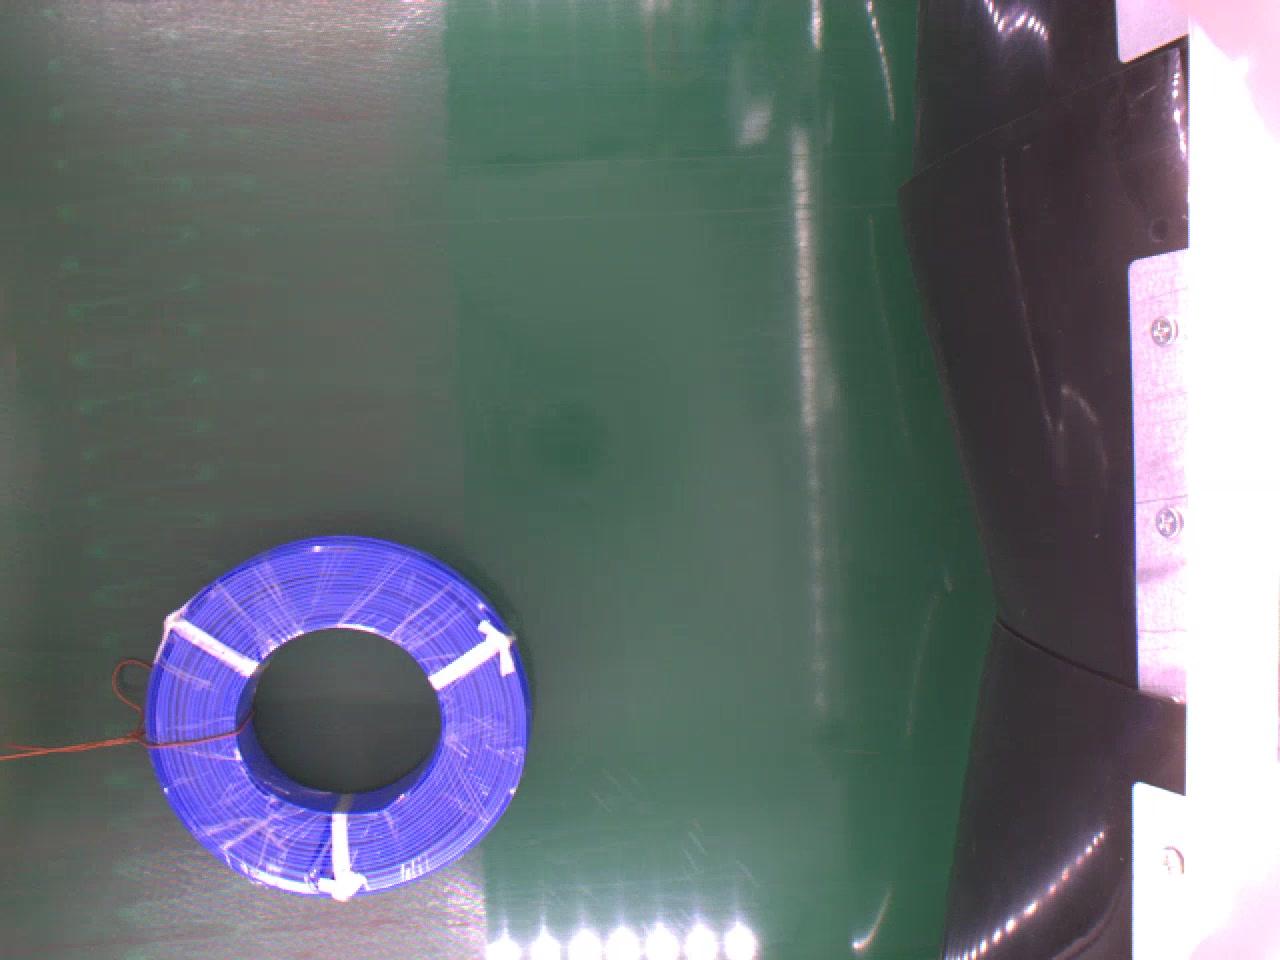blue: (144, 527, 527, 899)
